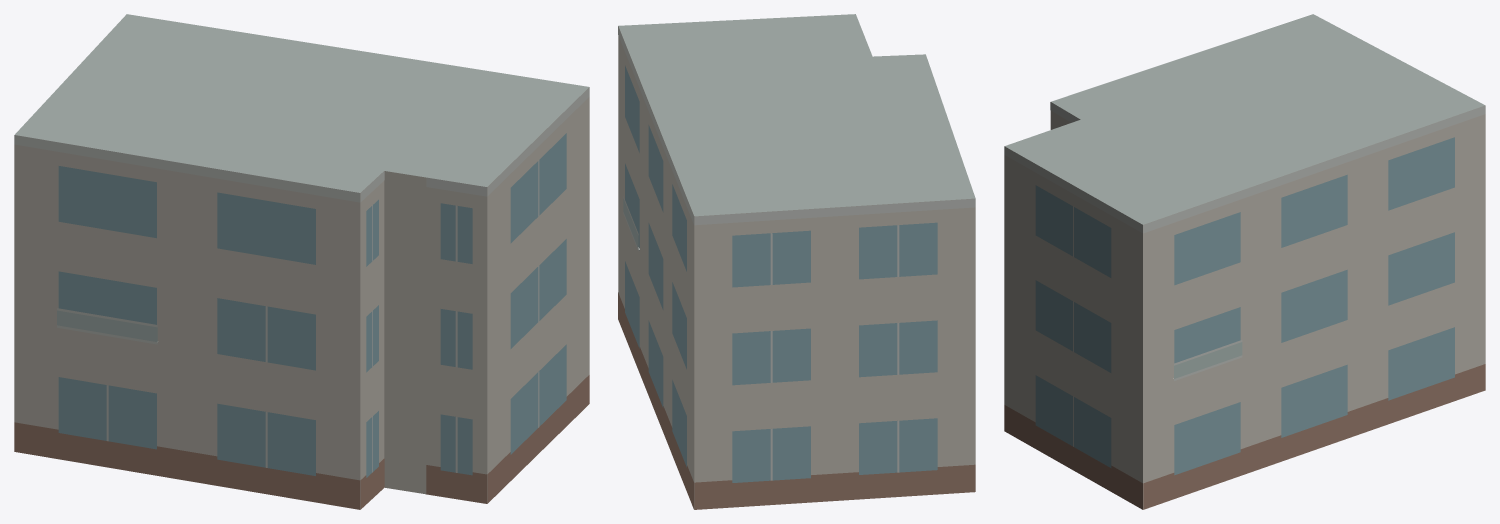
Rendered from survey-upis-32910133.glb.
3 renders of one model, left to right at view 1: azimuth 30°, elevation 25°; view 2: azimuth 150°, elevation 25°; view 3: azimuth 270°, elevation 25°, orthographic. The views are drawn at different scales.
Parts seen in each view (by area): view 1: survey-upis-32910133.tmp; view 2: survey-upis-32910133.tmp; view 3: survey-upis-32910133.tmp.
Boxes of the visible parts, bbox=[...] form: survey-upis-32910133.tmp: bbox=[14, 14, 589, 509]; survey-upis-32910133.tmp: bbox=[618, 14, 975, 509]; survey-upis-32910133.tmp: bbox=[1004, 14, 1485, 509].
Bounding box in the file's own units: 12.79 × 8.05 × 12.33.
